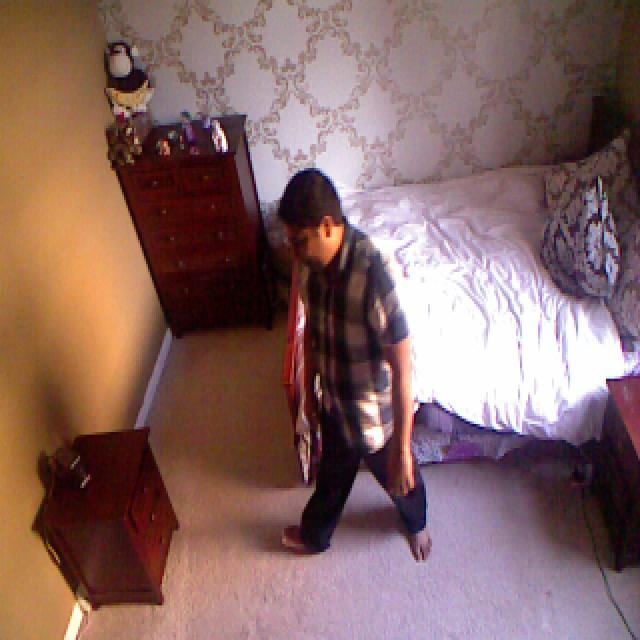standing: (275, 167, 435, 570)
